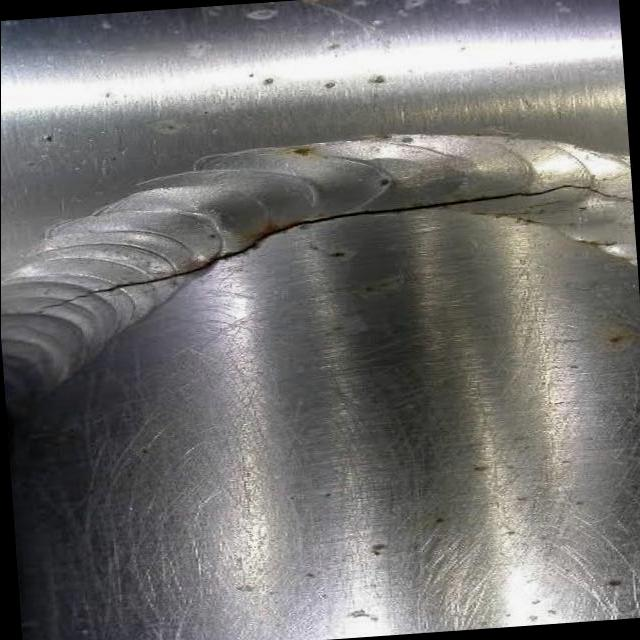defect: (32, 180, 633, 315)
